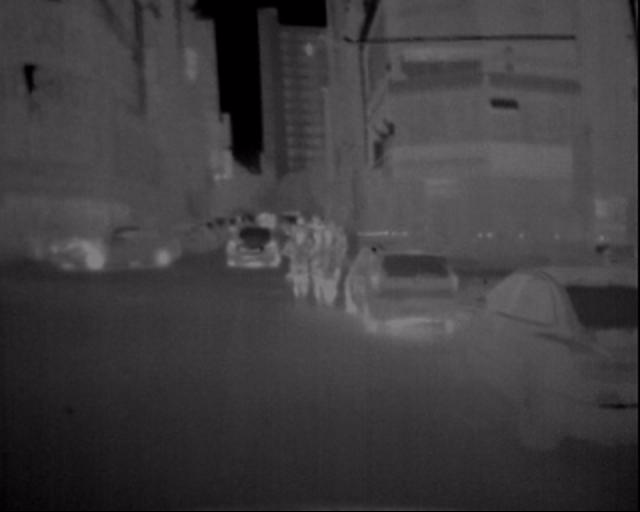person: (304, 214, 342, 311), (283, 211, 320, 307)
